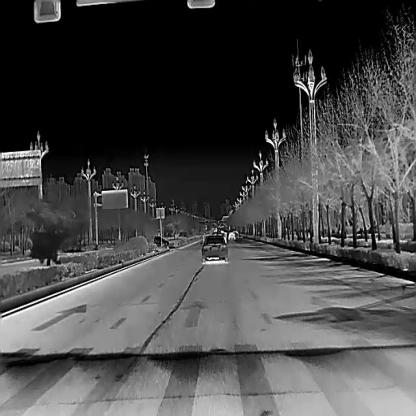car: (200, 235, 228, 262), (150, 234, 169, 248), (217, 232, 226, 242), (228, 232, 235, 240), (179, 231, 187, 236), (212, 228, 216, 232), (212, 232, 216, 235)
